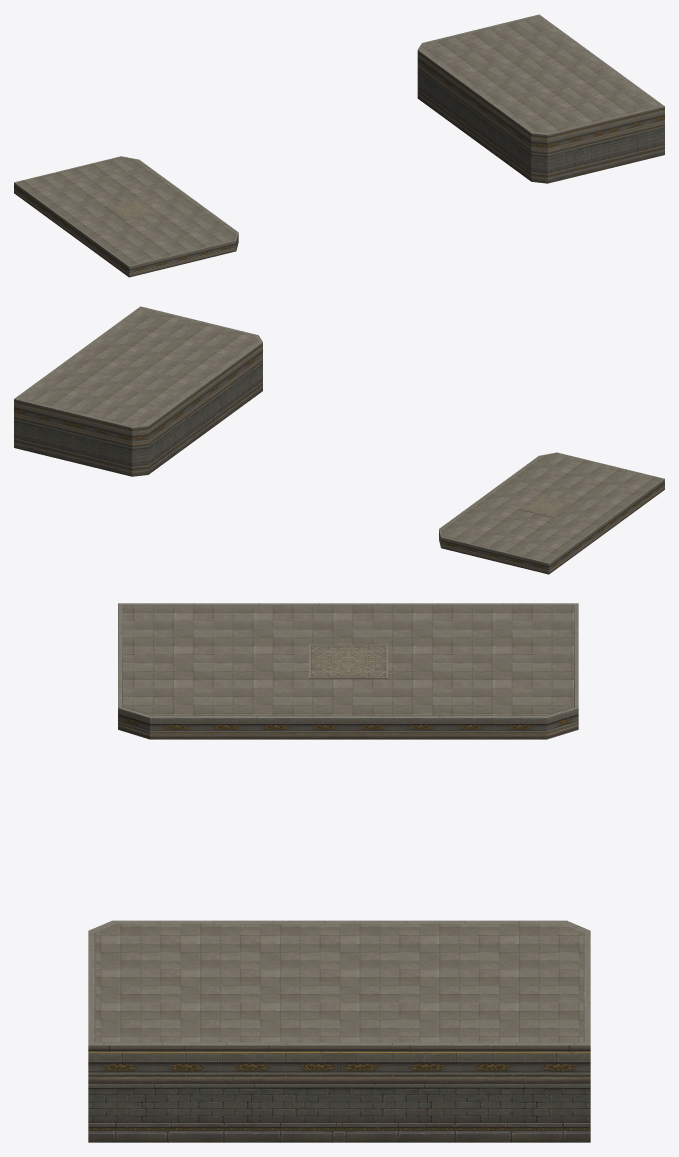
The model's file is s7_new_3d_chengchi_jianzhu003.FBX.
3 views of the same model, one above another, from view 1: azimuth 30°, elevation 25°; view 2: azimuth 150°, elevation 25°; view 3: azimuth 270°, elevation 25° (orthographic). The views are drawn at different scales.
Parts seen in each view (by area): view 1: s7_new_3d_chengchi_yuantai03, s7_new_3d_chengchi_yuantai02, s7_new_3d_chengchi_pingtai004; view 2: s7_new_3d_chengchi_yuantai03, s7_new_3d_chengchi_yuantai02, s7_new_3d_chengchi_pingtai004; view 3: s7_new_3d_chengchi_yuantai03, s7_new_3d_chengchi_yuantai02, s7_new_3d_chengchi_pingtai004.
Boxes of the visible parts, x1,y1,x2,y2 form: s7_new_3d_chengchi_yuantai03: (417,14,664,183); s7_new_3d_chengchi_yuantai02: (14,156,238,277); s7_new_3d_chengchi_pingtai004: (105,198,158,220); s7_new_3d_chengchi_yuantai03: (14,306,262,476); s7_new_3d_chengchi_yuantai02: (439,452,664,574); s7_new_3d_chengchi_pingtai004: (519,494,573,517); s7_new_3d_chengchi_yuantai03: (88,920,590,1142); s7_new_3d_chengchi_yuantai02: (118,603,578,739); s7_new_3d_chengchi_pingtai004: (309,644,387,678).
Bounding box in the file's own units: 77.15 × 6.79 × 31.78.
